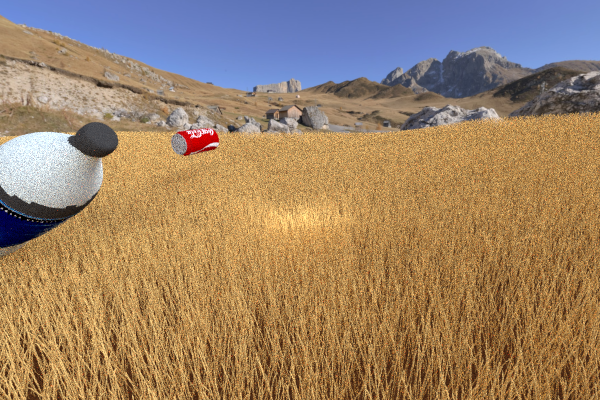bottle: (0, 122, 118, 265)
can: (170, 127, 219, 155), (17, 135, 51, 162)
